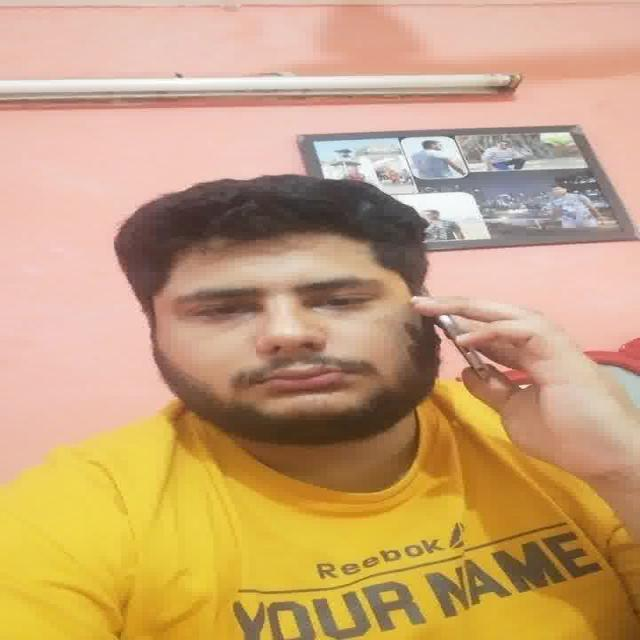Phone: (438, 302, 491, 388)
